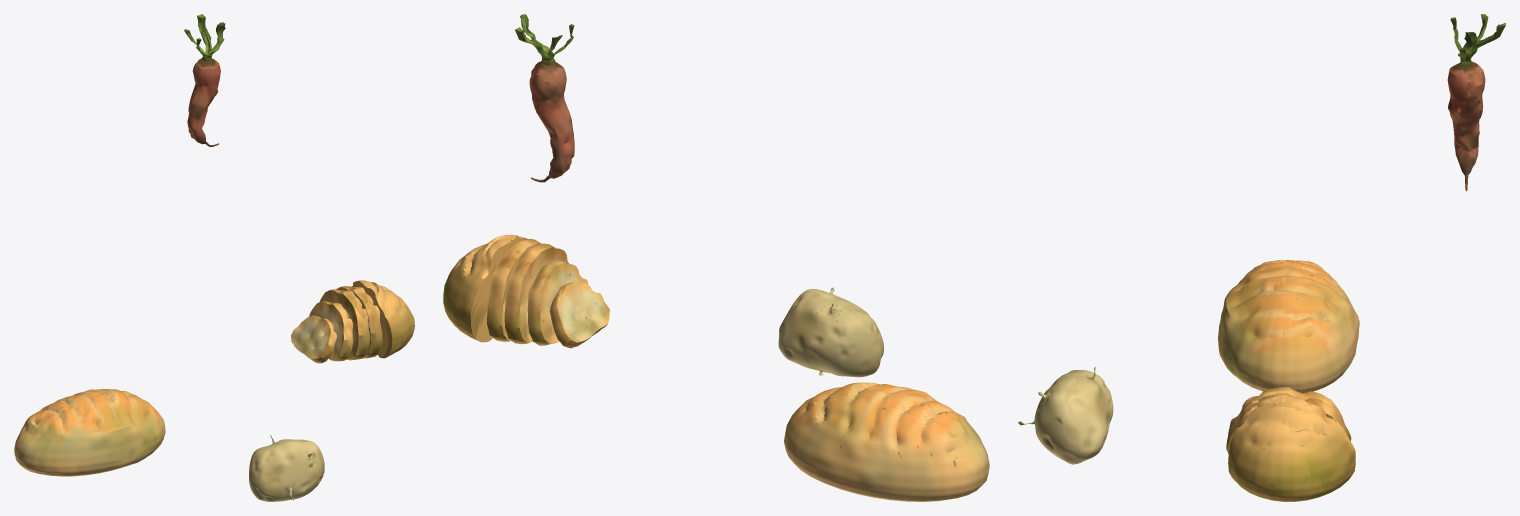
The model's file is food1.fbx.
3 views of the same model, side by side, from view 1: azimuth 30°, elevation 25°; view 2: azimuth 150°, elevation 25°; view 3: azimuth 270°, elevation 25° (orthographic). The views are drawn at different scales.
Visible parts, largest first — view 1: 球体.008, 立方体.011, 球体.009, 柱体.014; view 2: 球体.008, 立方体.011, 球体.009, 柱体.014; view 3: 球体.008, 立方体.011, 球体.009, 柱体.014.
Part boxes in pixels (box(x1,y1,x2,y2)): 球体.008: box(14, 389, 165, 476); 立方体.011: box(291, 280, 414, 363); 球体.009: box(249, 435, 324, 501); 柱体.014: box(184, 14, 225, 146); 球体.008: box(784, 382, 989, 501); 立方体.011: box(443, 234, 609, 348); 球体.009: box(778, 287, 883, 377); 柱体.014: box(515, 14, 574, 182); 球体.008: box(1218, 260, 1359, 393); 立方体.011: box(1226, 387, 1355, 501); 球体.009: box(1018, 367, 1113, 464); 柱体.014: box(1447, 14, 1505, 191).
Size of the model in its own units: 882 by 762 by 699.
